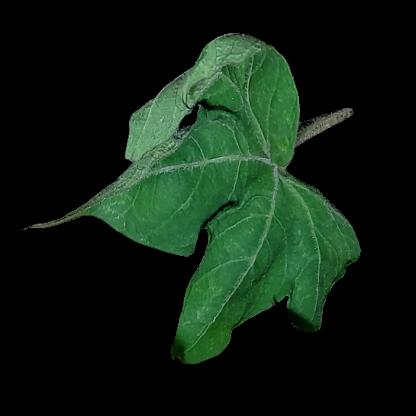curl_stage2: (204, 44, 265, 190), (147, 89, 196, 208), (257, 204, 331, 278), (193, 263, 254, 339), (265, 87, 295, 153)
